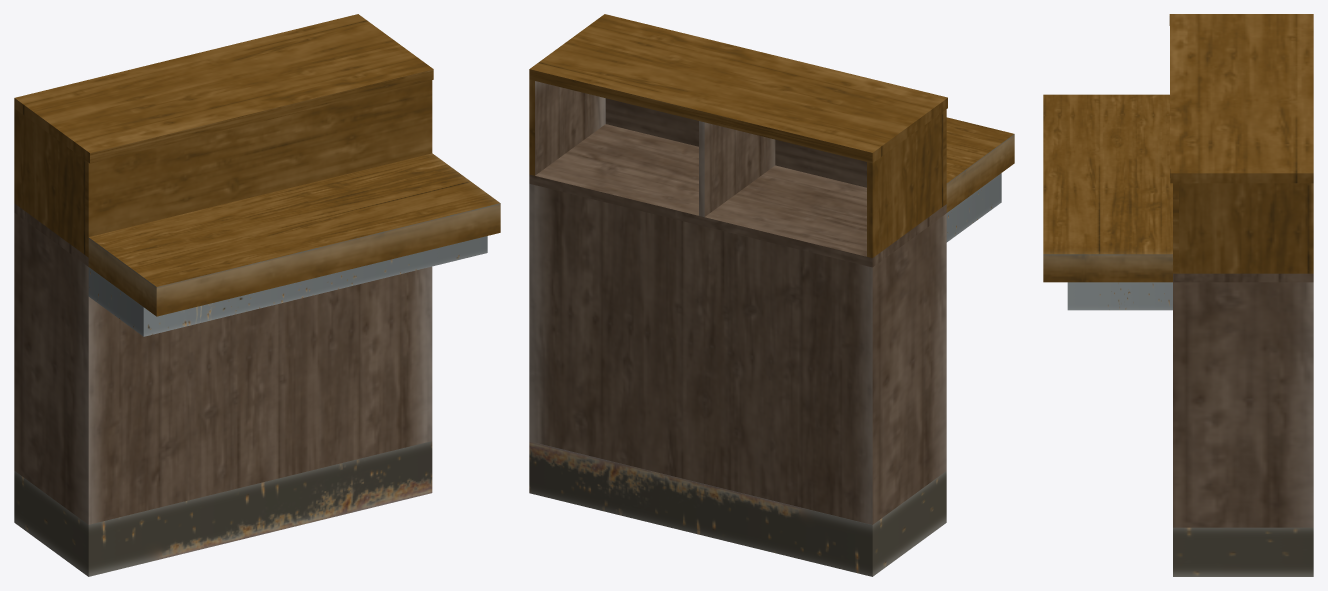
Rendered from tablecounter01b.fbx.
3 views of the same model, side by side, from view 1: azimuth 30°, elevation 25°; view 2: azimuth 150°, elevation 25°; view 3: azimuth 270°, elevation 25° (orthographic). The views are drawn at different scales.
Parts seen in each view (by area): view 1: tablecounter01b; view 2: tablecounter01b; view 3: tablecounter01b.
Part boxes in pixels (x1,y1,x2,y2): tablecounter01b: (14,14,500,576); tablecounter01b: (529,14,1014,576); tablecounter01b: (1043,14,1313,576).
Size of the model in its own units: 92.7 by 109 by 66.42.
